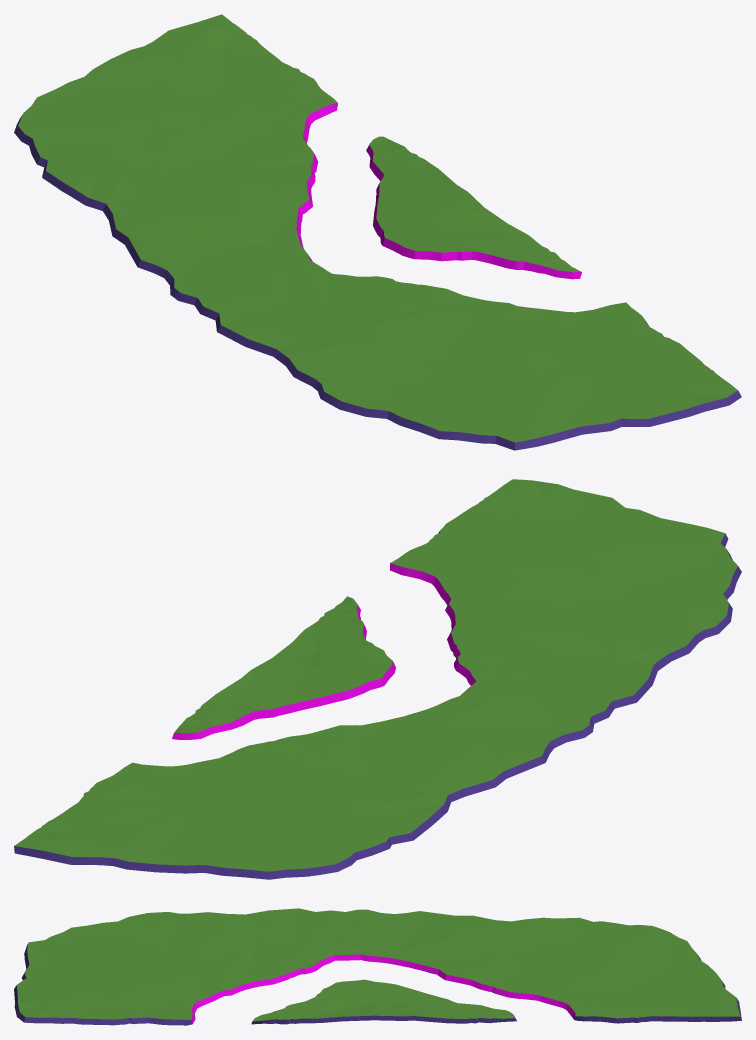
File: grass_path_set_D_U_turn.fbx
3 renders of one model, top to bottom at view 1: azimuth 30°, elevation 25°; view 2: azimuth 150°, elevation 25°; view 3: azimuth 270°, elevation 25°, orthographic. The views are drawn at different scales.
Parts seen in each view (by area): view 1: path_uturn_grass_layer_A_top, path_uturn_grass_layer_B_bottom; view 2: path_uturn_grass_layer_A_top, path_uturn_grass_layer_B_bottom; view 3: path_uturn_grass_layer_A_top, path_uturn_grass_layer_B_bottom.
Boxes of the visible parts, <box> form: path_uturn_grass_layer_A_top: <box>14,14,741,450</box>; path_uturn_grass_layer_B_bottom: <box>366,136,581,279</box>; path_uturn_grass_layer_A_top: <box>14,479,741,879</box>; path_uturn_grass_layer_B_bottom: <box>172,596,395,739</box>; path_uturn_grass_layer_A_top: <box>14,908,741,1025</box>; path_uturn_grass_layer_B_bottom: <box>251,979,516,1024</box>.
Size of the model in its own units: 2761 by 74.11 by 7491.
